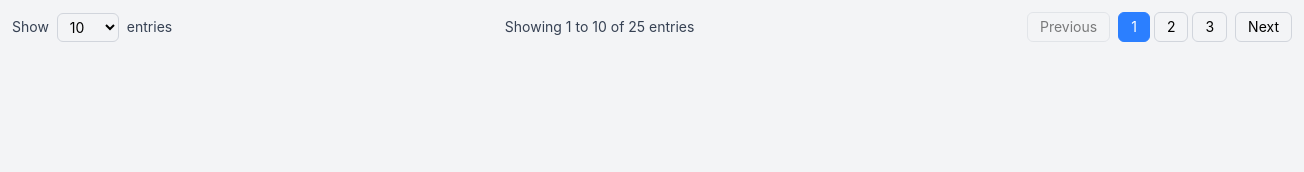
Pagination › jumps to a page number
Click the button "3" at (1210, 27), box [1192,12,1227,42]
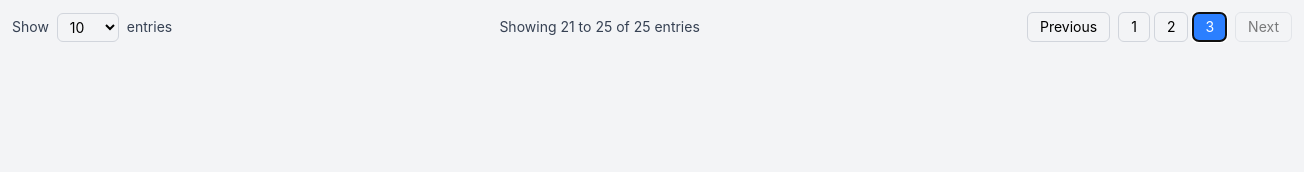
Expected: the text "Showing 21 to 25 of 25 entries" is shown, [499,18,700,35]
